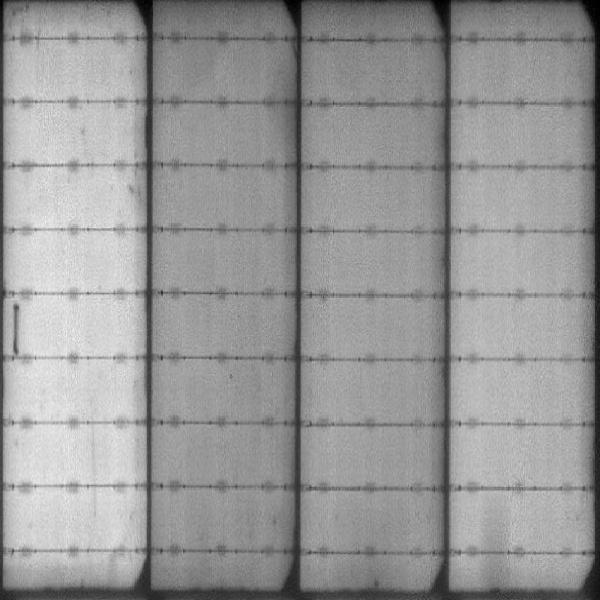scratch: (8, 303, 20, 353)
